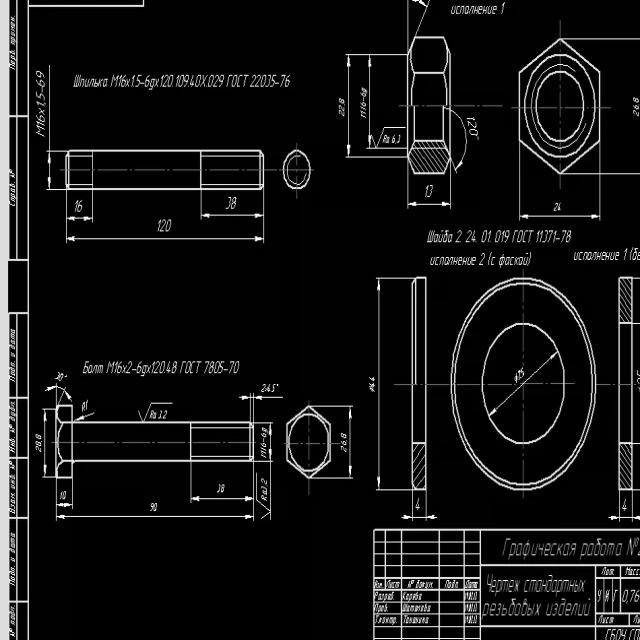marking_line: (490, 349, 558, 416), (67, 236, 264, 243), (446, 109, 466, 174), (376, 279, 382, 490), (56, 514, 254, 520), (404, 0, 427, 36), (345, 55, 352, 156), (46, 385, 75, 406), (520, 214, 600, 221), (202, 212, 264, 220), (41, 411, 48, 477), (367, 55, 372, 147), (191, 496, 255, 503), (348, 408, 354, 478), (238, 394, 284, 402), (409, 201, 451, 209), (256, 500, 270, 524), (401, 513, 438, 521), (607, 516, 640, 524), (46, 153, 52, 190), (75, 413, 98, 422), (67, 215, 92, 223), (268, 423, 273, 459), (57, 502, 73, 509)
numeric: (465, 115, 483, 139), (202, 359, 225, 377), (535, 228, 557, 246), (153, 217, 176, 234), (228, 356, 244, 380), (152, 360, 168, 381), (358, 86, 367, 121), (560, 227, 574, 247), (421, 183, 437, 199), (166, 359, 177, 379), (631, 97, 640, 119), (35, 93, 47, 109), (35, 68, 45, 87), (263, 383, 281, 393), (73, 198, 85, 213), (369, 375, 376, 400), (340, 432, 347, 455), (147, 501, 160, 513), (225, 197, 236, 211), (261, 477, 269, 496), (126, 358, 133, 379), (216, 482, 228, 493), (478, 251, 486, 267), (338, 97, 344, 118), (554, 203, 566, 213), (116, 362, 124, 376), (392, 133, 401, 145), (517, 367, 525, 380), (622, 246, 628, 263), (259, 427, 268, 438), (622, 497, 628, 513), (415, 497, 421, 511)
special_symbol: (135, 398, 180, 422), (371, 126, 387, 149), (511, 370, 518, 385)
